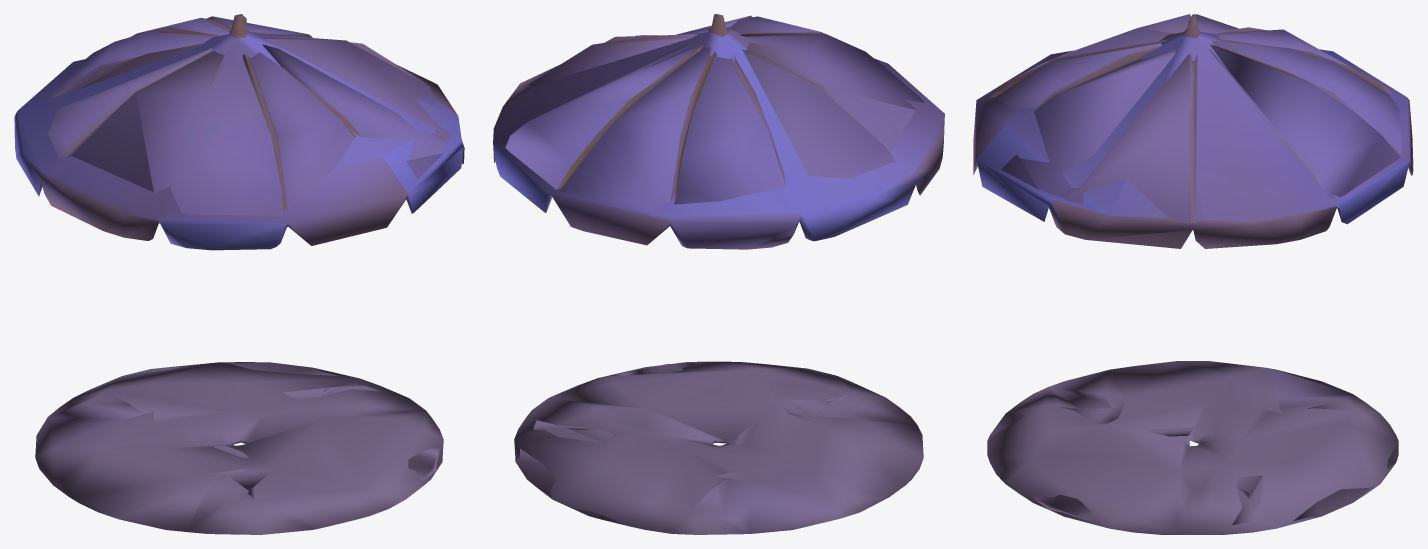
File: model.progressive.glb
3 renders of one model, left to right at view 1: azimuth 30°, elevation 25°; view 2: azimuth 150°, elevation 25°; view 3: azimuth 270°, elevation 25°, orthographic.
Visible parts, largest first — view 1: material; view 2: material; view 3: material.
Part boxes in pixels (x1,y1,x2,y2): material: [14, 14, 464, 534]; material: [493, 14, 944, 534]; material: [973, 14, 1413, 534].
Size of the model in its own units: 1.81 by 1.9 by 1.74.
Materials: 1 (1 with a texture image).
